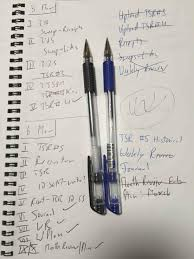pen: (73, 35, 103, 222), (104, 32, 129, 213)
